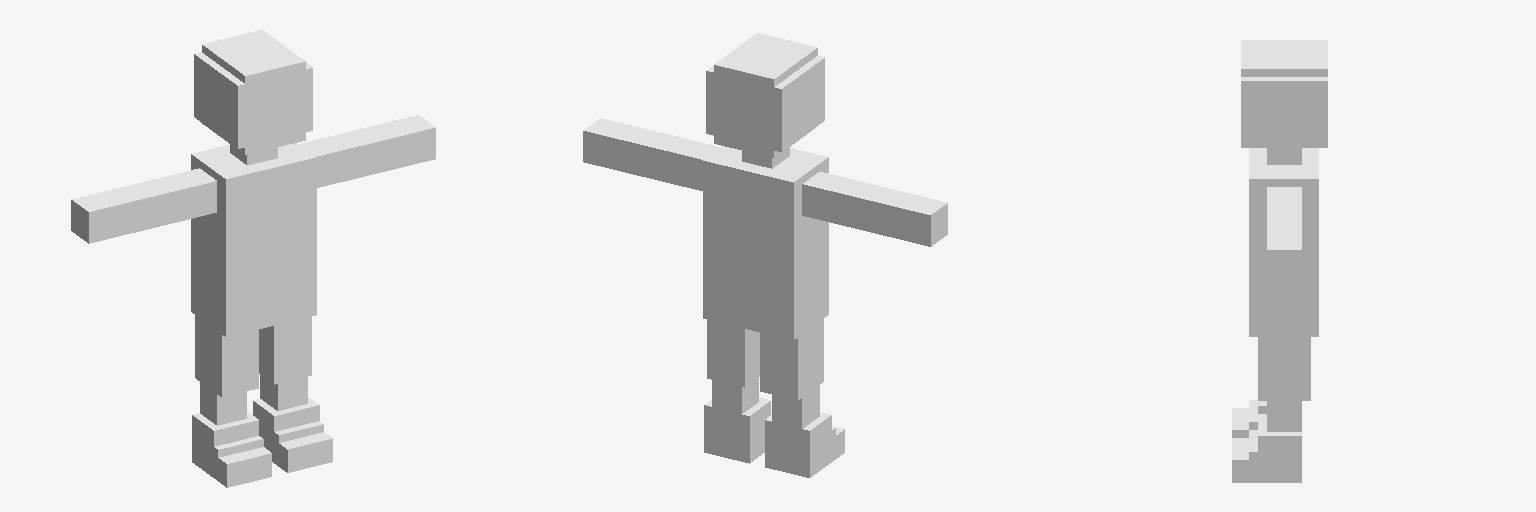
Rendered from MichaelJordan.obj.
3 views of the same model, side by side, from view 1: azimuth 30°, elevation 25°; view 2: azimuth 150°, elevation 25°; view 3: azimuth 270°, elevation 25° (orthographic).
Parts seen in each view (by area): view 1: object 1; view 2: object 1; view 3: object 1.
Part boxes in pixels (x1,y1,x2,y2): object 1: (71, 30, 435, 487); object 1: (583, 33, 947, 477); object 1: (1232, 40, 1327, 482).
Size of the model in its own units: 4.6 by 5.1 by 1.1.